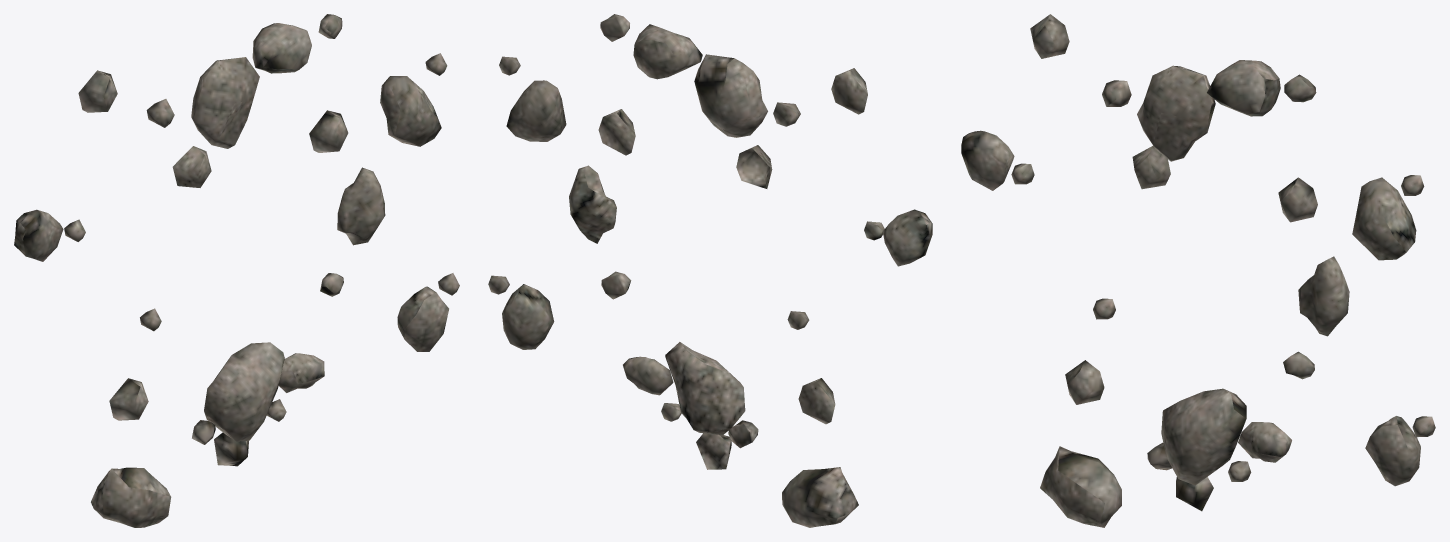
File: tdr_h_campfire_stone.obj
3 renders of one model, left to right at view 1: azimuth 30°, elevation 25°; view 2: azimuth 150°, elevation 25°; view 3: azimuth 330°, elevation 25°, orthographic. The views are drawn at different scales.
Parts seen in each view (by area): view 1: Body.campfire_wood_a.smd.mesh_0; view 2: Body.campfire_wood_a.smd.mesh_0; view 3: Body.campfire_wood_a.smd.mesh_0.
Boxes of the visible parts, x1,y1,x2,y2 form: Body.campfire_wood_a.smd.mesh_0: [14, 14, 459, 527]; Body.campfire_wood_a.smd.mesh_0: [488, 14, 932, 527]; Body.campfire_wood_a.smd.mesh_0: [961, 14, 1435, 527].
Bounding box in the file's own units: 110 × 110 × 13.
Materials: 1 (1 with a texture image).
